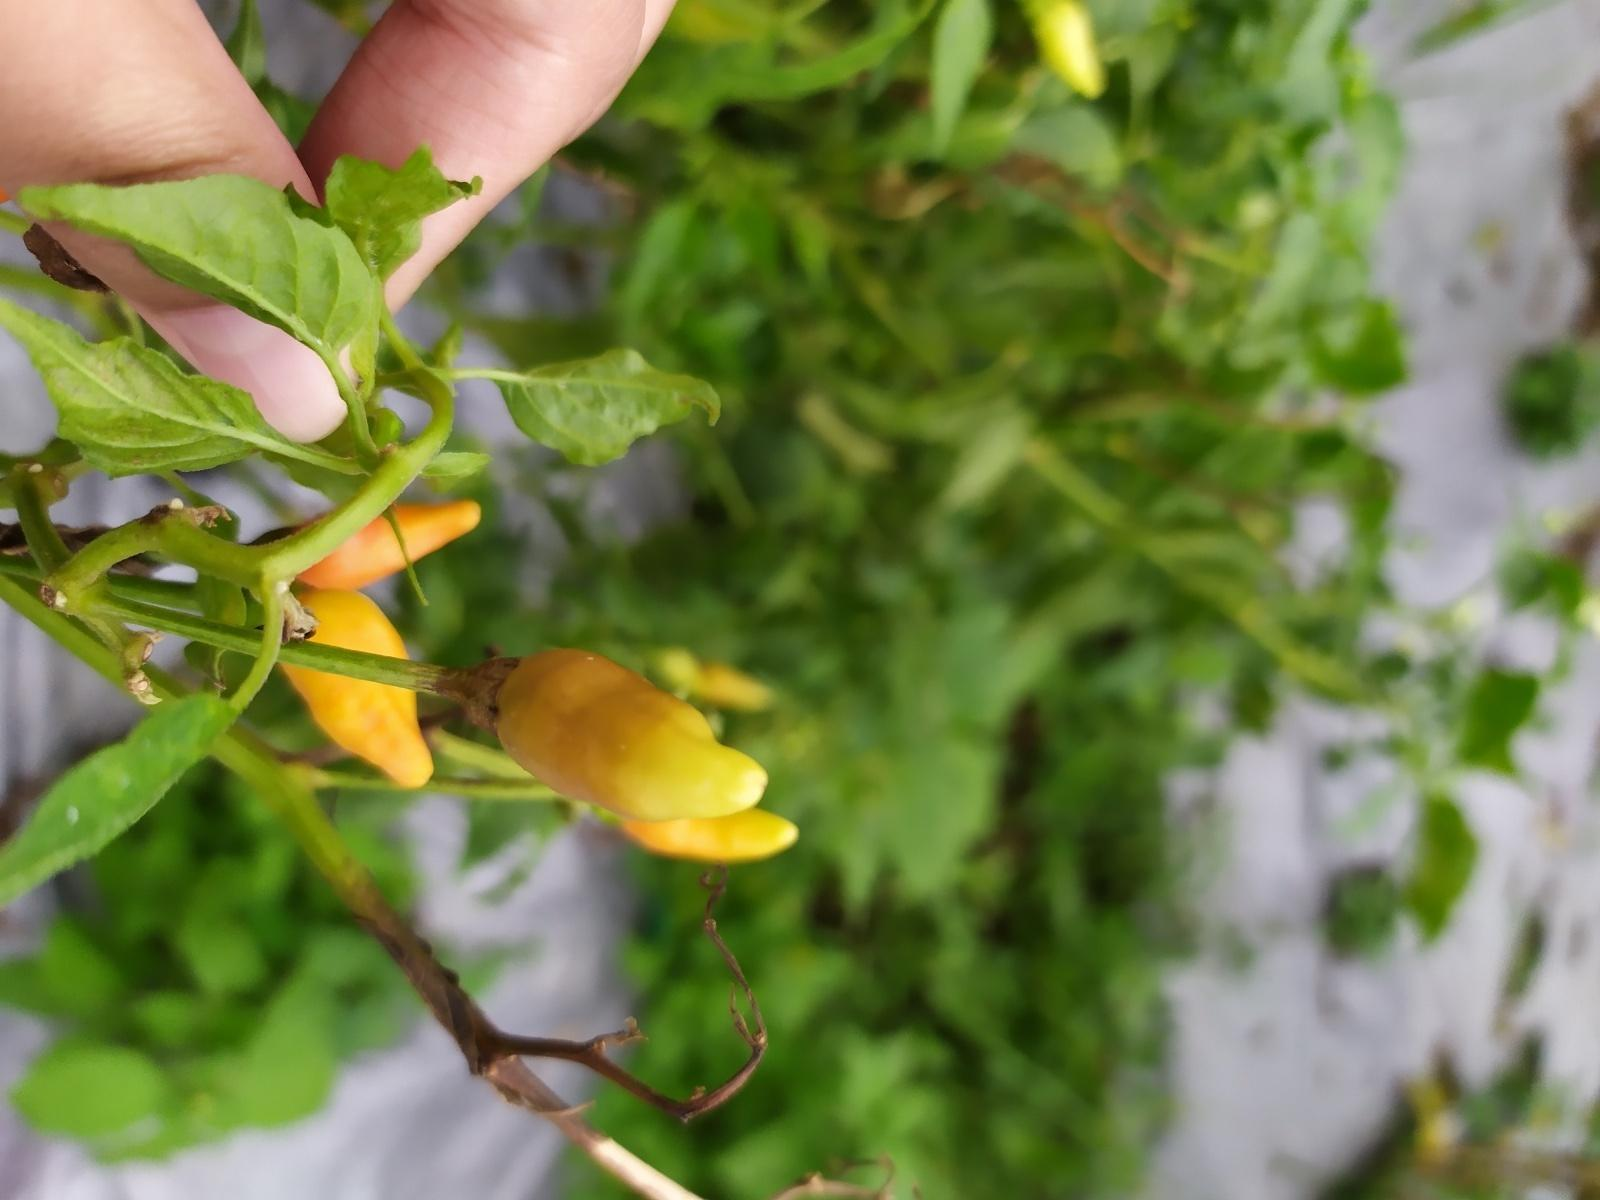cabai_normal: (287, 592, 437, 792), (287, 495, 481, 591)
lalat_buah: (481, 645, 771, 822)
